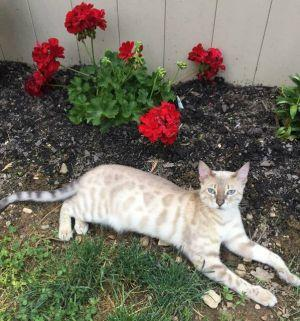bengal: (187, 153, 260, 218)
